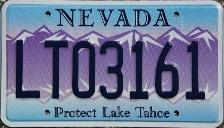0: (69, 39, 97, 100)
1: (183, 39, 208, 101), (128, 38, 152, 101)
3: (97, 38, 126, 101)
6: (152, 38, 182, 100)
L: (13, 33, 43, 100)
T: (42, 38, 70, 102)
